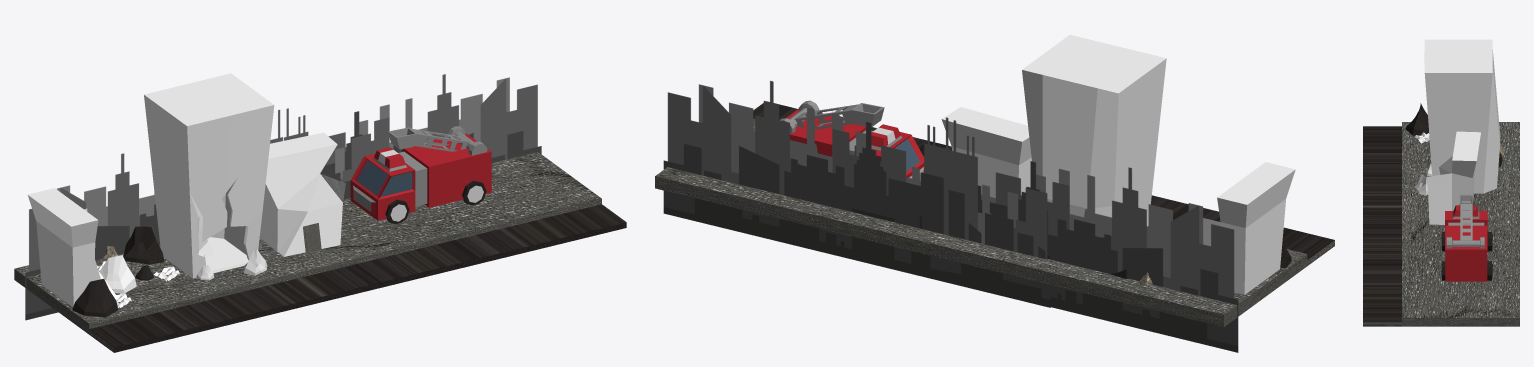
File: exterior.glb
3 views of the same model, side by side, from view 1: azimuth 30°, elevation 25°; view 2: azimuth 150°, elevation 25°; view 3: azimuth 270°, elevation 25° (orthographic). The views are drawn at different scales.
Visible parts, largest first — view 1: Cubo.007, Cubo, Cubo.011, city-skyline-in-grey-colors-png.001, Cubo.012, city-skyline-in-grey-colors-png, Cubo.001, Cubo.013, Cubo.004, Cubo.002, Cubo.006; view 2: city-skyline-in-grey-colors-png.001, city-skyline-in-grey-colors-png, Cubo, Cubo.007, Cubo.001, Cubo.011, Cubo.012, Cubo.013; view 3: Cubo.007, Cubo, Cubo.011, Cubo.012, Cubo.013, Cubo.004, Cilindro, Cubo.010.
Part boxes in pixels (x1,y1,x2,y2): Cubo.007: (14, 152, 626, 352); Cubo: (144, 73, 274, 278); Cubo.011: (260, 132, 345, 256); city-skyline-in-grey-colors-png.001: (270, 74, 541, 175); Cubo.012: (350, 133, 491, 220); city-skyline-in-grey-colors-png: (25, 108, 370, 320); Cubo.001: (28, 188, 115, 306); Cubo.013: (388, 127, 469, 151); Cubo.004: (72, 278, 118, 317); Cubo.002: (123, 226, 164, 264); Cubo.006: (99, 255, 136, 293); city-skyline-in-grey-colors-png.001: (663, 80, 1050, 307); city-skyline-in-grey-colors-png: (854, 117, 1238, 352); Cubo: (1022, 34, 1166, 226); Cubo.007: (655, 103, 1334, 326); Cubo.001: (1203, 162, 1295, 294); Cubo.011: (941, 107, 1031, 198); Cubo.012: (786, 109, 924, 180); Cubo.013: (794, 103, 884, 129); Cubo.007: (1363, 122, 1519, 326); Cubo: (1424, 39, 1499, 193); Cubo.011: (1426, 131, 1480, 224); Cubo.012: (1445, 205, 1487, 281); Cubo.013: (1459, 194, 1473, 240); Cubo.004: (1405, 103, 1429, 135); Cilindro: (1446, 237, 1484, 248); Cubo.010: (1414, 174, 1427, 195).
Size of the model in its own units: 160 by 59.29 by 53.08.
Materials: 9 (4 with a texture image).
